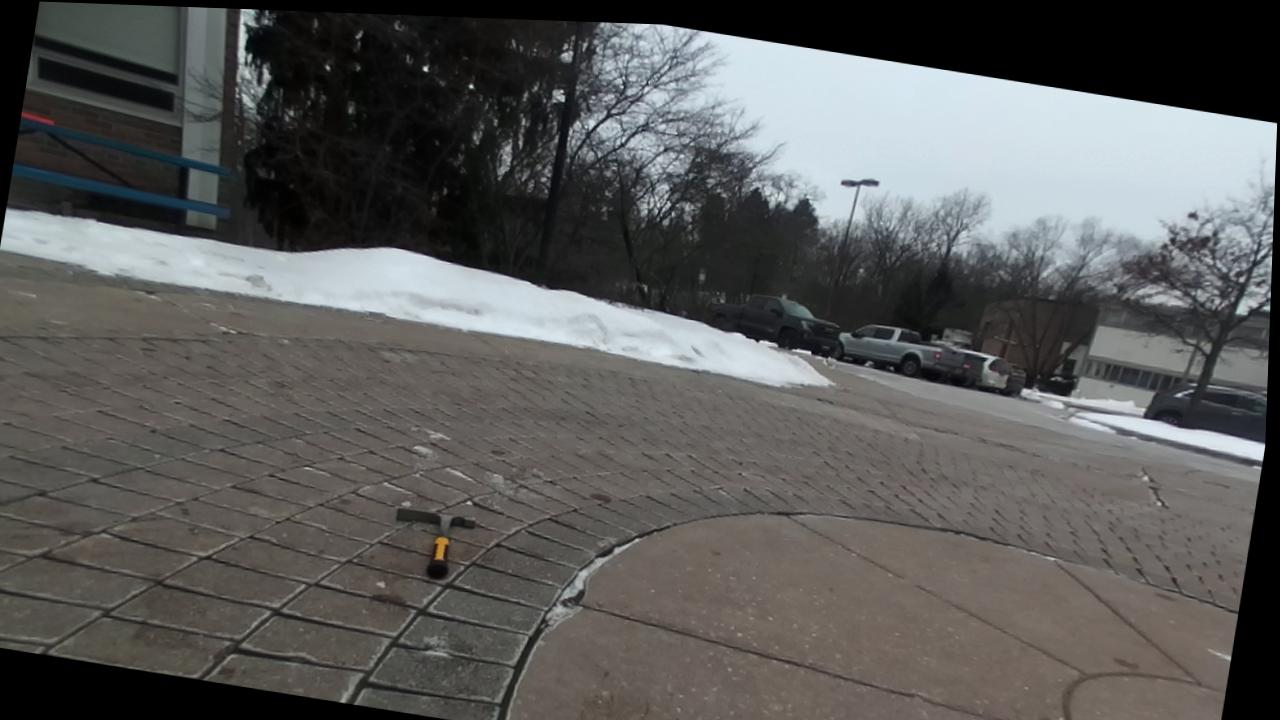pick: (395, 508, 476, 579)
